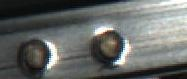joints: (88, 23, 131, 63), (17, 35, 57, 74)
